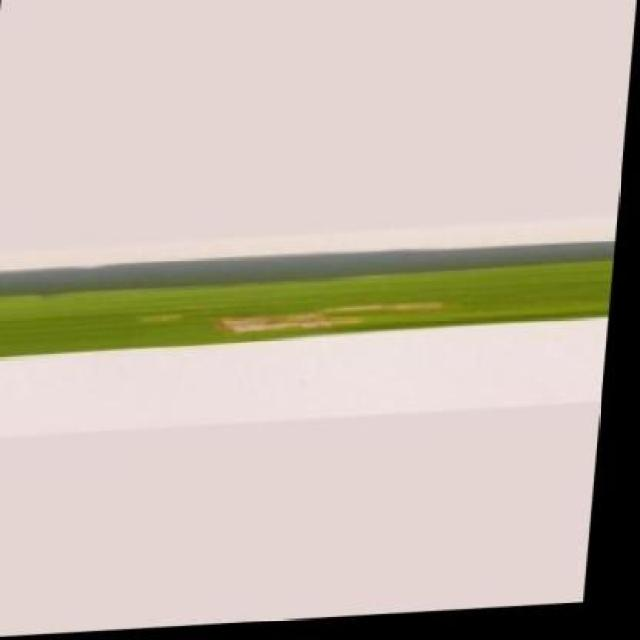Brown_Spot: (0, 258, 620, 367)
